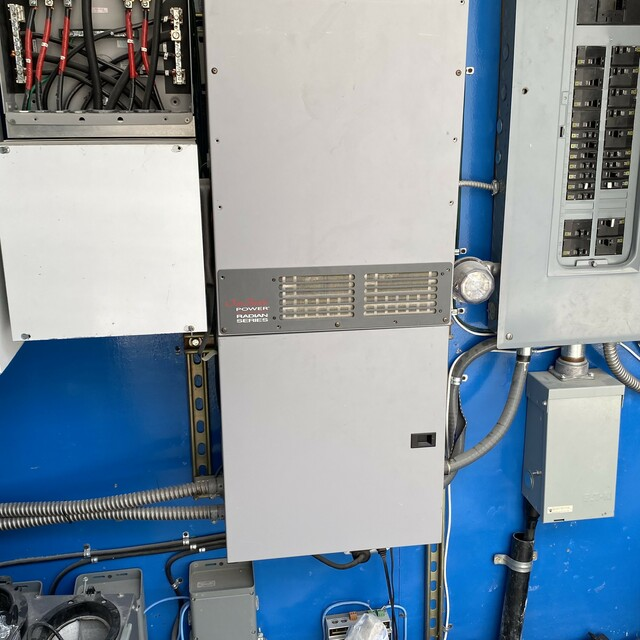inverter: (202, 1, 477, 572)
